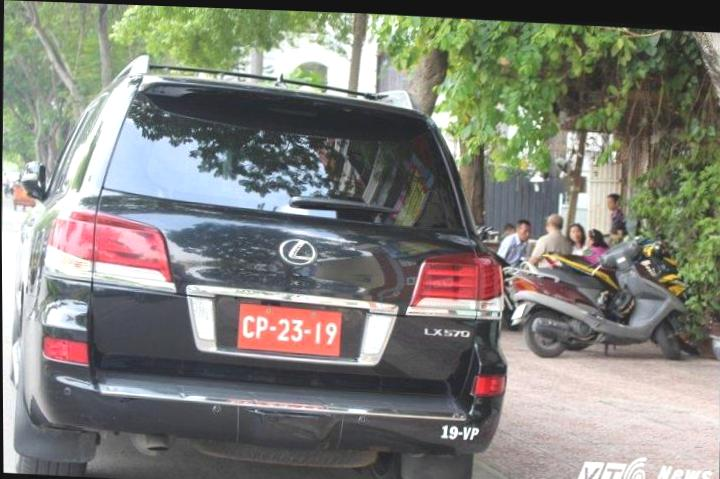License_Plate: (234, 302, 347, 365)
